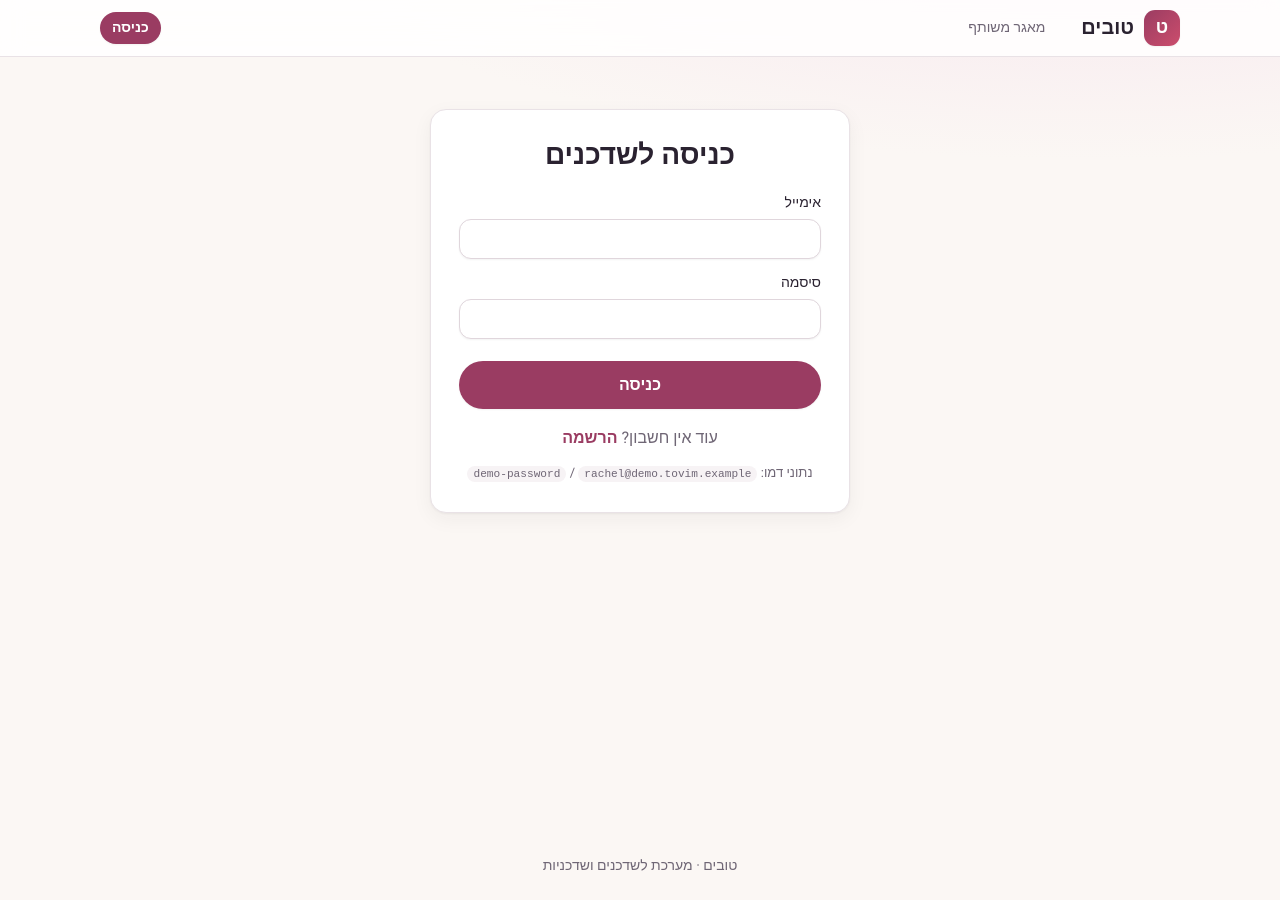
Scenario: login › shows a Hebrew error for wrong credentials and stays on the page
This screenshot has width=1280, height=900.
Type "rachel@example.com" into the field labelled "אימייל" at x=640, y=239, box left=459, top=219, right=821, bottom=259
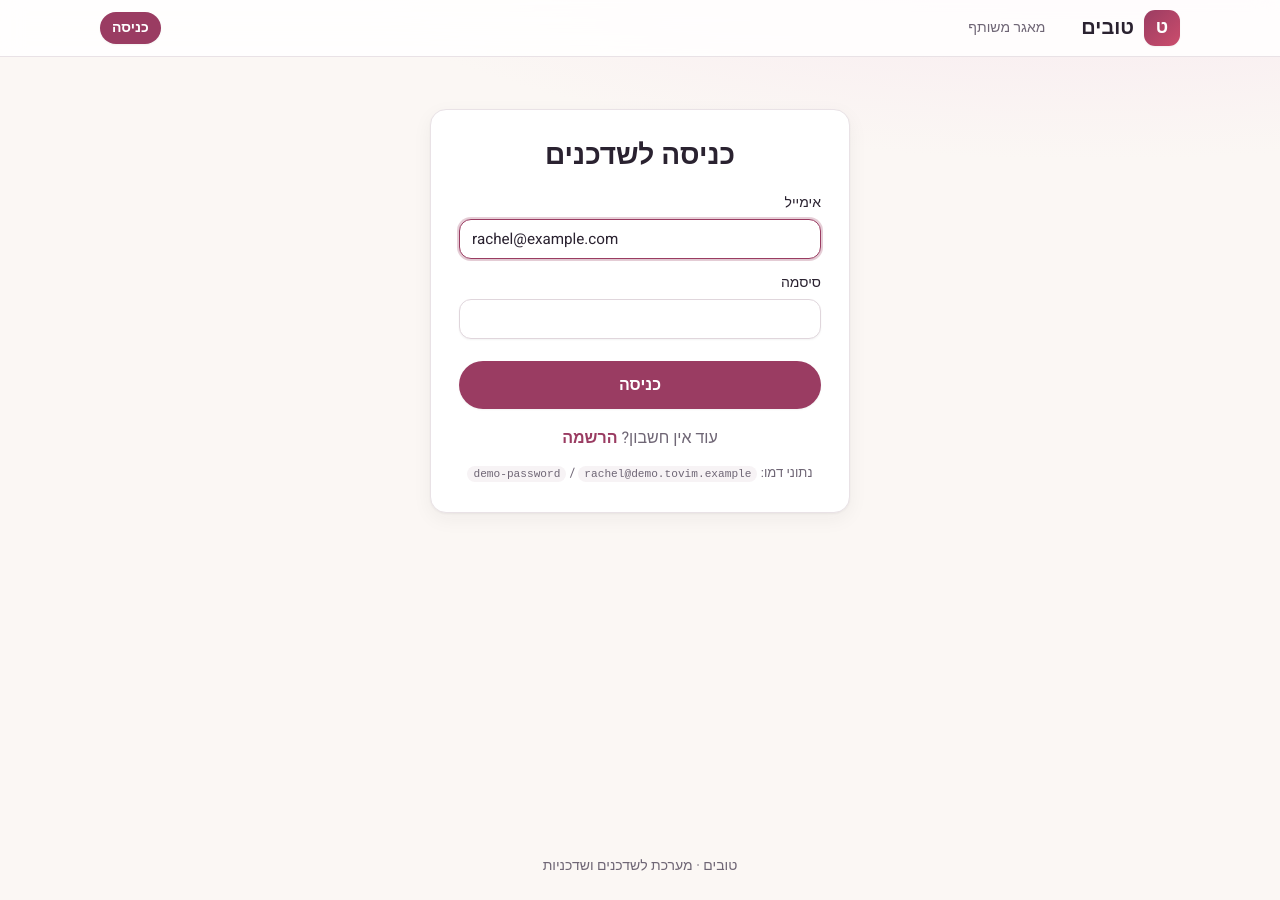
Type "wrong-pass1" into the password field labelled "סיסמה" at x=640, y=319, box left=459, top=299, right=821, bottom=339
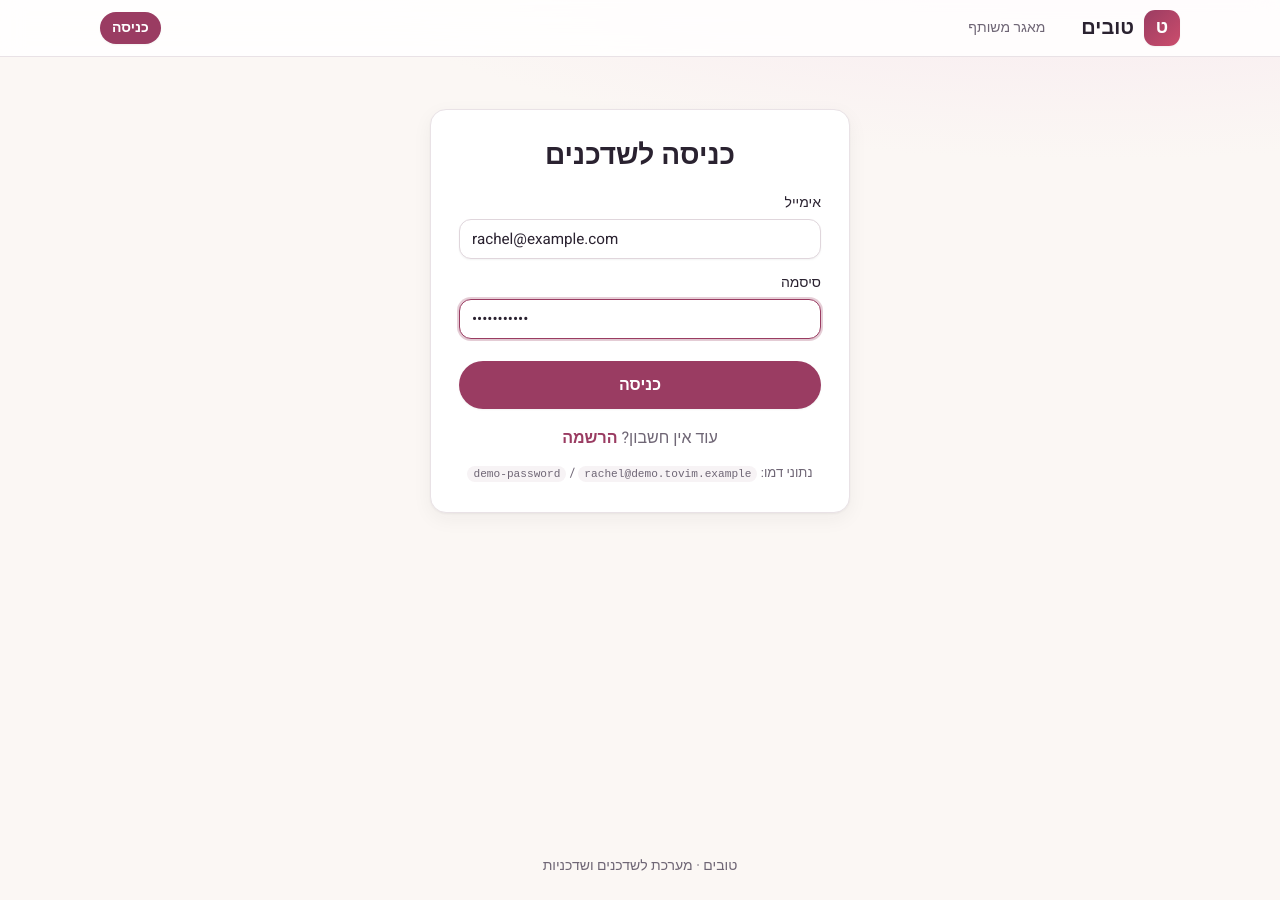
Click the button "כניסה" at x=640, y=385, box left=459, top=361, right=821, bottom=409
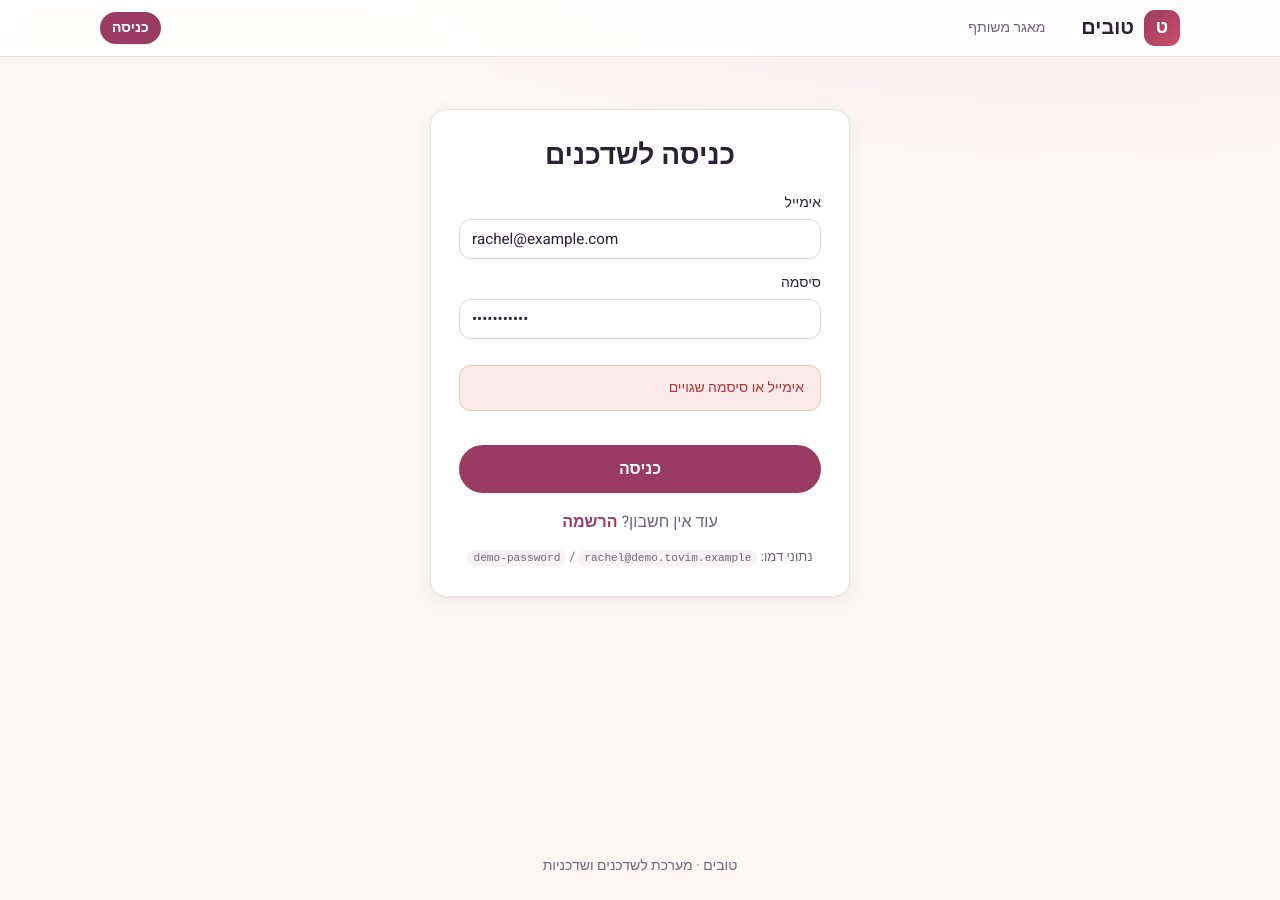
Expected: the message reads "אימייל או סיסמה שגויים", left=669, top=377, right=804, bottom=398
